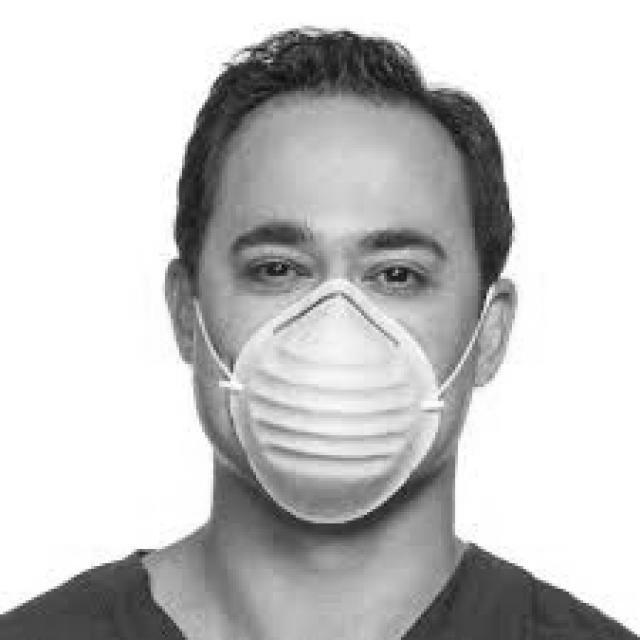fake: (225, 277, 443, 524)
real: (204, 98, 469, 532)
